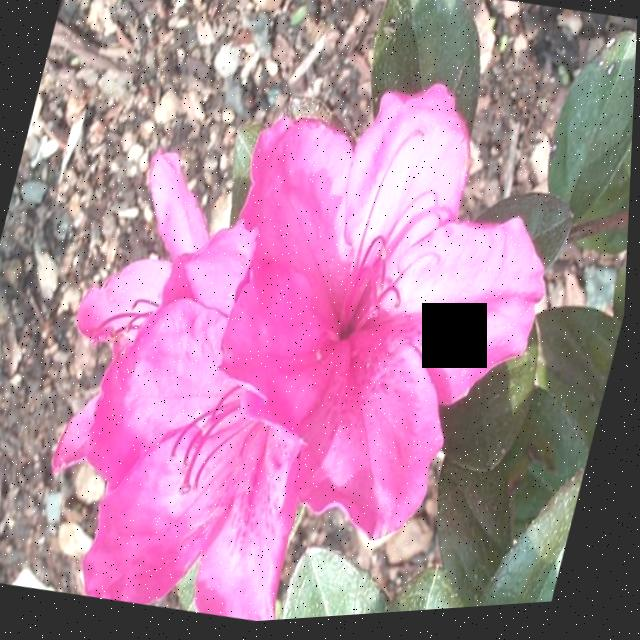azalea: (177, 71, 569, 543)
